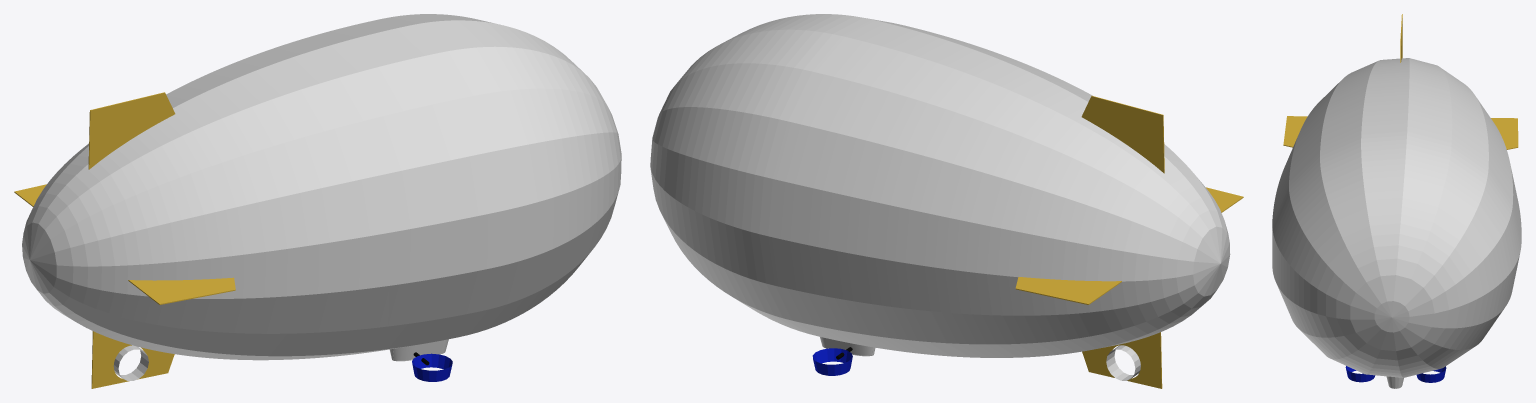
File: maeblimp.dae
3 renders of one model, left to right at view 1: azimuth 30°, elevation 25°; view 2: azimuth 150°, elevation 25°; view 3: azimuth 270°, elevation 25°, orthographic. The views are drawn at different scales.
Parts seen in each view (by area): view 1: Shape_Extrusion, Shape_Extrusion_007, Shape_IndexedFaceSet, Shape_Extrusion_005, Shape_Extrusion_004, Shape_Extrusion_001, Shape_Cylinder_001; view 2: Shape_Extrusion, Shape_Extrusion_007, Shape_IndexedFaceSet, Shape_Extrusion_006, Shape_Extrusion_003, Shape_Cylinder_001, Shape_Extrusion_001; view 3: Shape_Extrusion, Shape_Extrusion_006, Shape_Extrusion_005, Shape_Extrusion_003, Shape_Extrusion_004.
Boxes of the visible parts, left/top/right/bottom form: Shape_Extrusion: left=22, top=14, right=621, bottom=360; Shape_Extrusion_007: left=88, top=92, right=175, bottom=169; Shape_IndexedFaceSet: left=91, top=331, right=174, bottom=388; Shape_Extrusion_005: left=128, top=277, right=235, bottom=304; Shape_Extrusion_004: left=412, top=353, right=452, bottom=381; Shape_Extrusion_001: left=389, top=339, right=448, bottom=360; Shape_Cylinder_001: left=113, top=345, right=148, bottom=380; Shape_Extrusion: left=650, top=14, right=1230, bottom=357; Shape_Extrusion_007: left=1081, top=96, right=1164, bottom=173; Shape_IndexedFaceSet: left=1082, top=332, right=1162, bottom=388; Shape_Extrusion_006: left=1015, top=277, right=1121, bottom=304; Shape_Extrusion_003: left=812, top=348, right=852, bottom=375; Shape_Cylinder_001: left=1106, top=345, right=1140, bottom=380; Shape_Extrusion_001: left=820, top=337, right=875, bottom=355; Shape_Extrusion: left=1272, top=58, right=1521, bottom=377; Shape_Extrusion_006: left=1491, top=118, right=1518, bottom=149; Shape_Extrusion_005: left=1283, top=116, right=1307, bottom=147; Shape_Extrusion_003: left=1416, top=366, right=1446, bottom=382; Shape_Extrusion_004: left=1345, top=366, right=1375, bottom=382.
Bounding box in the file's own units: 3.03 × 1.51 × 1.66.
